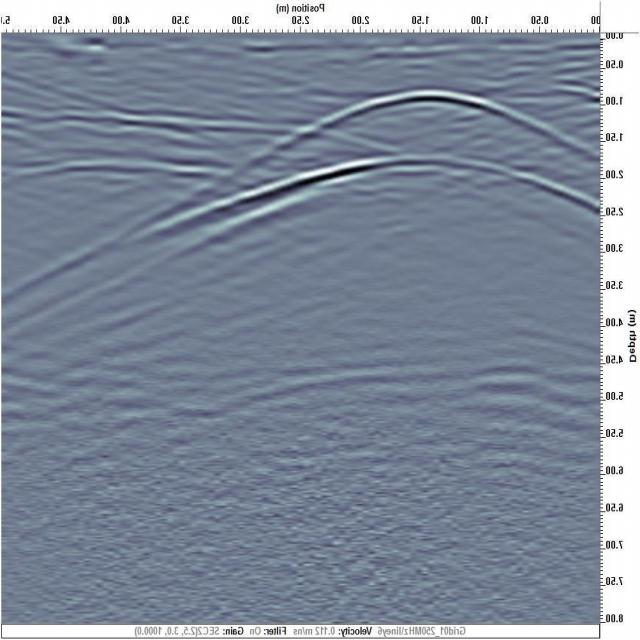hyperbola: (252, 144, 593, 221), (297, 74, 559, 151)
